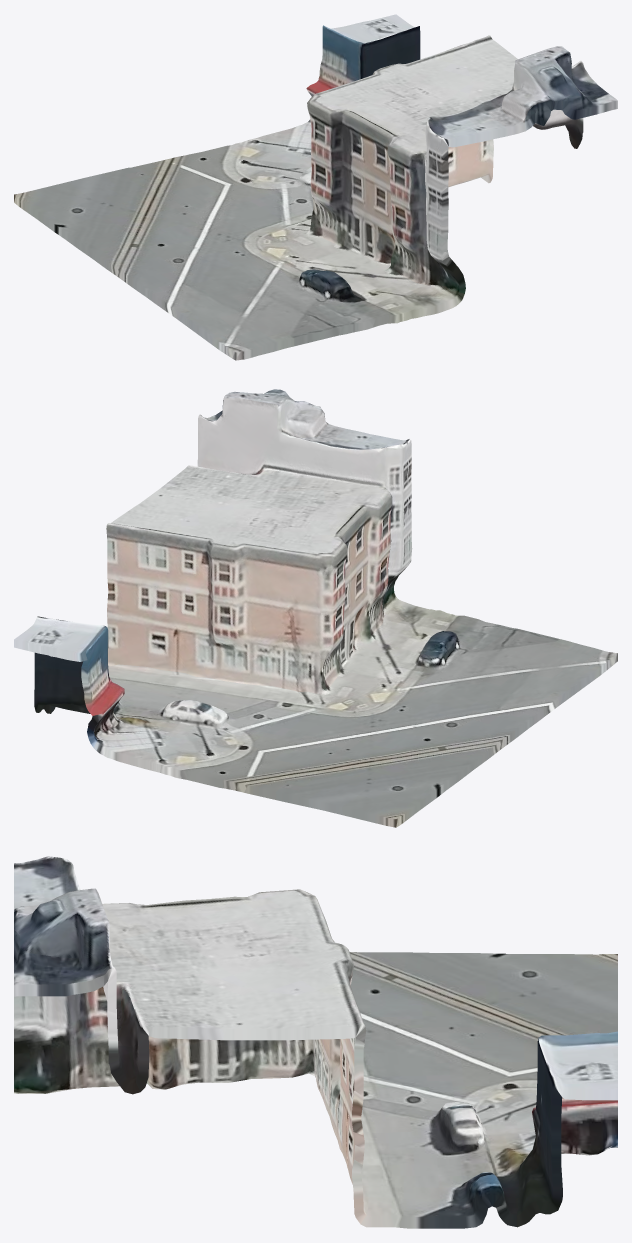
File: z20-167732-405193-h0-yup-uvflip-v3-world.glb
The picture shows the model from 3 angles, top to bottom: view 1: azimuth 30°, elevation 25°; view 2: azimuth 150°, elevation 25°; view 3: azimuth 270°, elevation 25°; orthographic projection. The views are drawn at different scales.
Size of the model in its own units: 30.16 by 16.2 by 30.32.
1 material, 1 textured.
